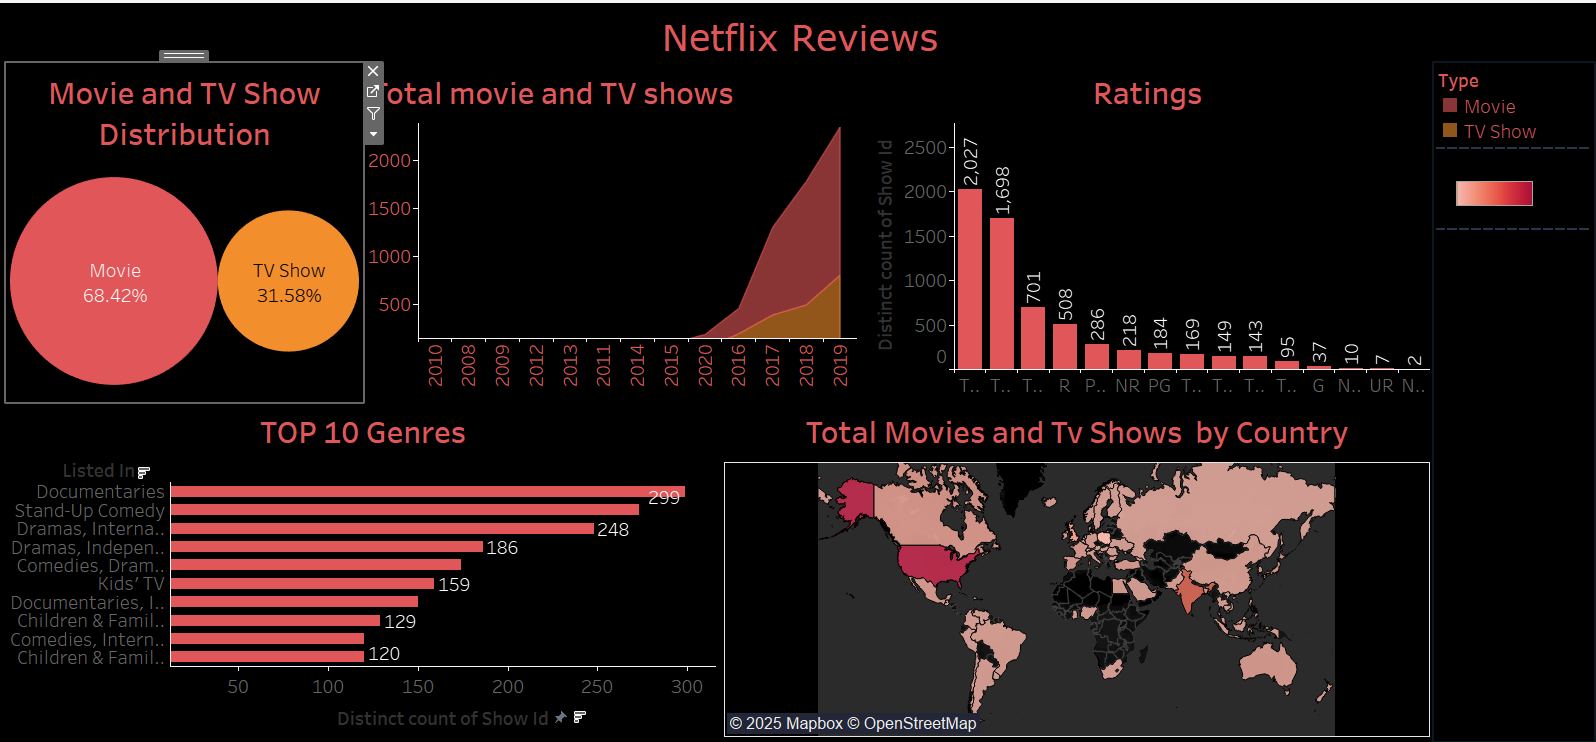

Layout of this report page (visuals, bound fields, positions):
{"tool":"tableau","page":{"name":"Dashboard 1","canvas":[1000,1000],"units":"permille","ordinal":0},"visuals":[{"type":"title","box":[5,10.7,990,69.7]},{"type":"worksheet","title":"Movie and TV Show distribution","mark":"Circle","box":[5,80.4,222.5,454.4]},{"type":"worksheet","title":"Total movies and TV Shows by year","mark":"Area","rows":["show_id"],"cols":["date_added"],"box":[227.5,80.4,310.5,454.4]},{"type":"worksheet","title":"Ratings","mark":"Automatic","rows":["show_id"],"cols":["rating"],"box":[538,80.4,357.2,454.4]},{"type":"legend","title":"Total movies and TV Shows by year","param":"[federated.0nu7ywb0a23nen19k6ou11elt8w1].[none:type:nk]","box":[895.3,80.4,99.8,112.6]},{"type":"legend","title":"Sheet 2","param":"[federated.0nu7ywb0a23nen19k6ou11elt8w1].[ctd:show_id:qk]","box":[895.3,193,99.8,108.6]},{"type":"worksheet","title":"Top 10 Genre","mark":"Automatic","rows":["listed_in"],"cols":["show_id"],"box":[5,534.9,445.1,454.4]},{"type":"worksheet","title":"Sheet 2","mark":"Multipolygon","box":[450.1,534.9,445.2,454.4]}]}

Visuals, with their boxes on the dashboard's canvas, which has no fixed pixel size, in thousandths of its width and height (x1, y1, x2, y2). These are canvas units, not pixel positions in the 1596x742 screenshot, which may show the page scaled, cropped or inside an application window:
title: locate(5, 11, 995, 80)
"Movie and TV Show distribution" worksheet (Circle marks): locate(5, 80, 228, 535)
"Total movies and TV Shows by year" worksheet (Area marks): locate(228, 80, 538, 535)
"Ratings" worksheet: locate(538, 80, 895, 535)
"Total movies and TV Shows by year" legend: locate(895, 80, 995, 193)
"Sheet 2" legend: locate(895, 193, 995, 302)
"Top 10 Genre" worksheet: locate(5, 535, 450, 989)
"Sheet 2" worksheet (Multipolygon marks): locate(450, 535, 895, 989)
